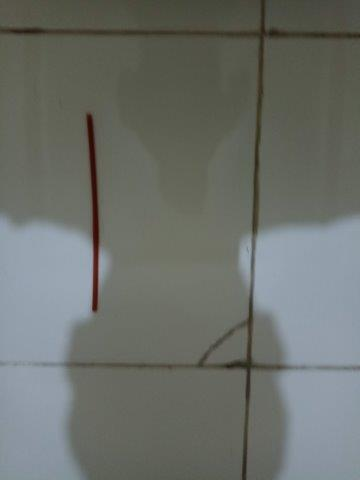sedotan: (86, 112, 100, 310)
